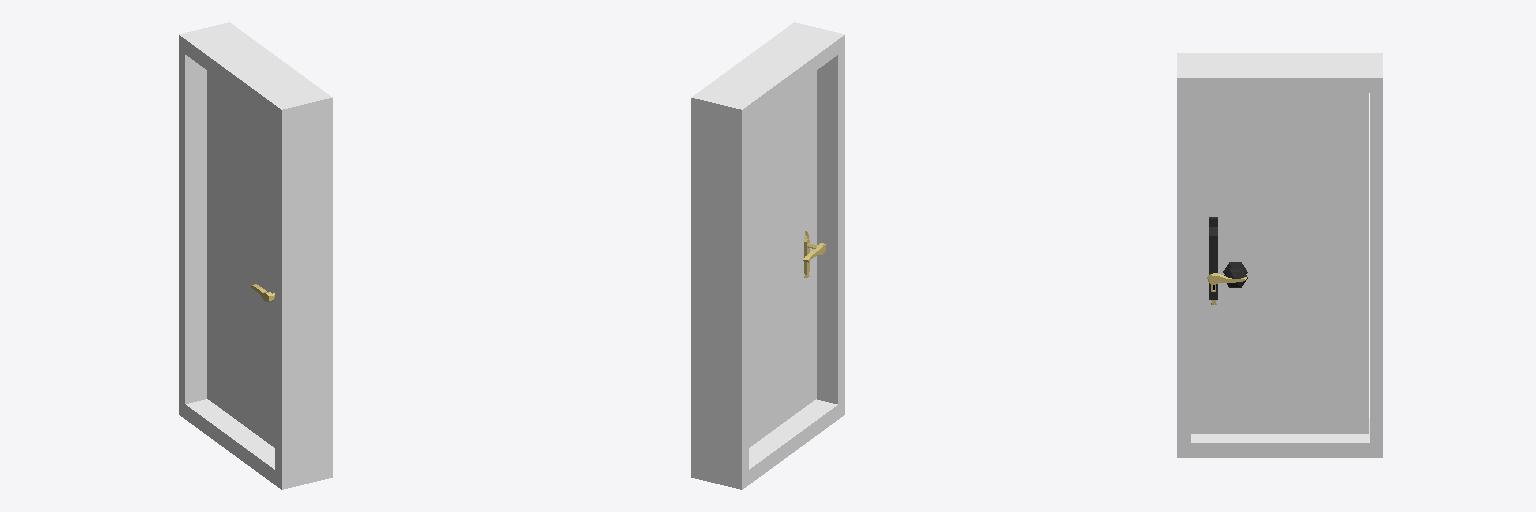
File: OldHouseDoorWoodWhite.obj
The picture shows the model from 3 angles: view 1: azimuth 30°, elevation 25°; view 2: azimuth 150°, elevation 25°; view 3: azimuth 270°, elevation 25°; orthographic projection.
Parts seen in each view (by area): view 1: Rectangle06, Box03; view 2: Rectangle06, Box03; view 3: Box03, Rectangle06, Line05.
Boxes of the visible parts, x1=… form: Rectangle06: x1=179, y1=22, x2=332, y2=489; Box03: x1=207, y1=71, x2=274, y2=447; Rectangle06: x1=691, y1=22, x2=844, y2=489; Box03: x1=749, y1=71, x2=816, y2=447; Box03: x1=1191, y1=93, x2=1368, y2=433; Rectangle06: x1=1177, y1=53, x2=1382, y2=457; Line05: x1=1209, y1=217, x2=1217, y2=299.
Bounding box in the file's own units: 0.3472 × 2.45 × 1.2.